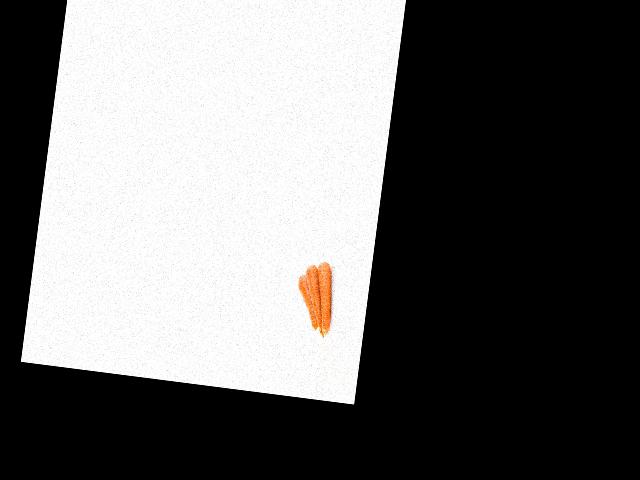carrot: (309, 258, 341, 335)
